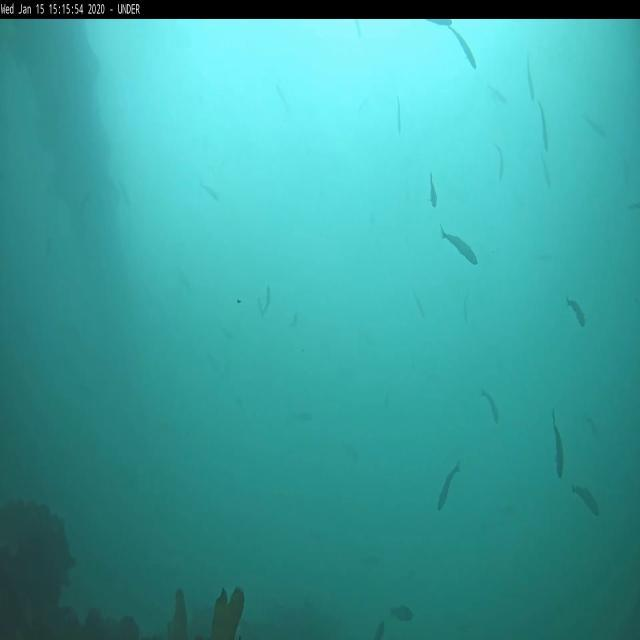fish: (441, 227, 479, 264), (438, 462, 462, 510), (450, 26, 477, 68), (551, 414, 563, 481), (564, 296, 586, 330), (572, 486, 598, 512), (481, 385, 498, 423), (586, 115, 610, 138), (390, 604, 413, 620), (488, 87, 508, 105), (526, 59, 534, 101), (540, 103, 547, 151), (541, 153, 550, 190), (200, 183, 220, 199), (430, 172, 438, 208), (496, 144, 504, 180), (264, 282, 270, 312), (428, 20, 452, 26), (257, 298, 266, 314), (397, 96, 400, 132)
